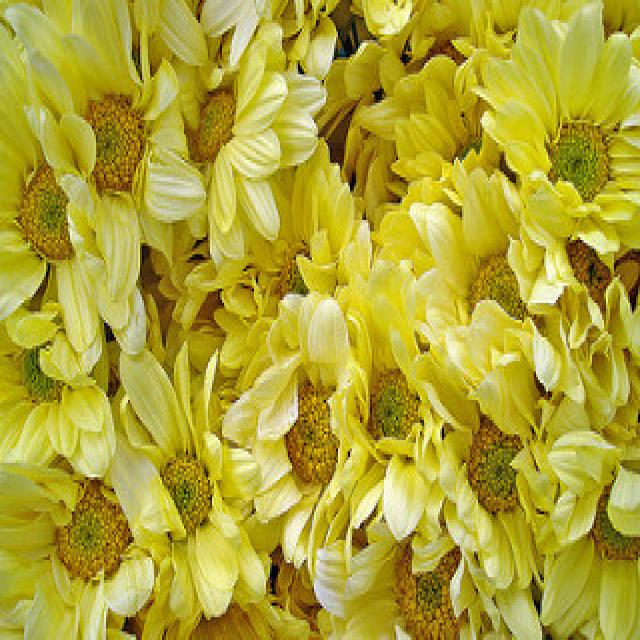sunflower: (401, 170, 576, 414), (28, 0, 194, 243), (480, 8, 640, 252), (1, 422, 177, 640), (142, 0, 302, 236), (0, 55, 140, 312), (115, 345, 250, 605), (325, 461, 519, 640), (244, 299, 375, 506), (539, 432, 640, 640), (0, 292, 113, 463)
